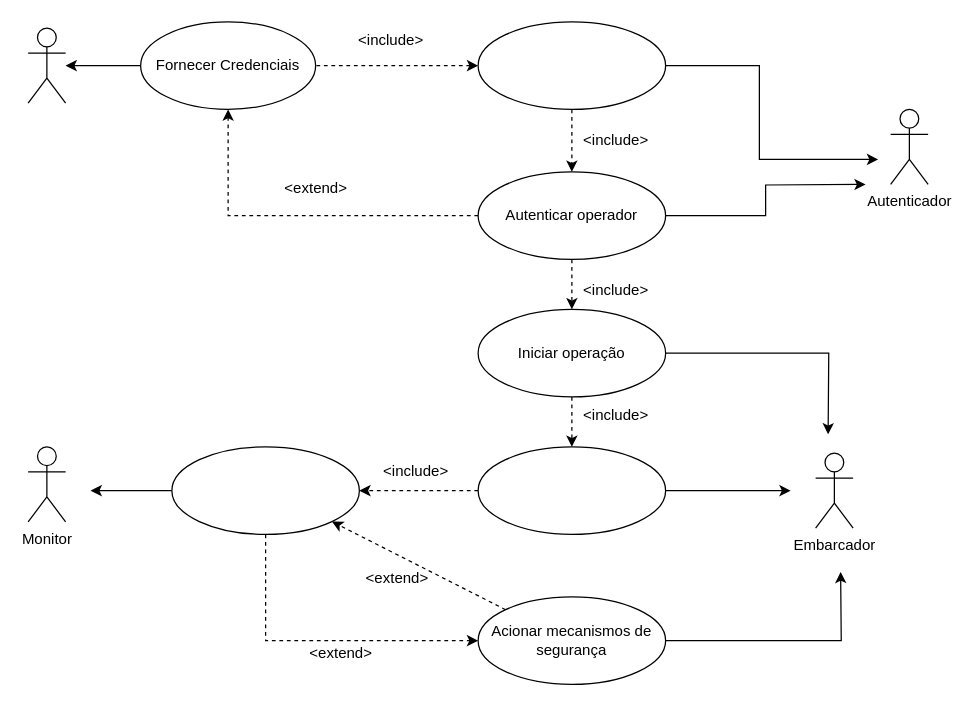
Some shapes in this 973 by 706 pixel diagram are drawn without their labels. Here are the shapes that lost their labels. From the top down, the centre of each, then its label:
At pixel 46 65: "Militar".
At pixel 571 65: "Verificar credenciais".
At pixel 265 490: "Monitorar processos do sistema operacional".
At pixel 571 490: "Executar processos".
